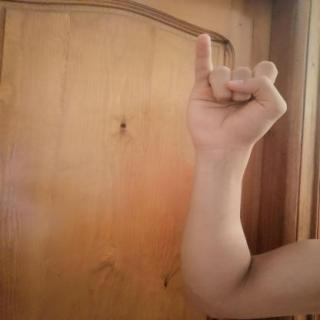MEEM: (175, 24, 296, 157)
